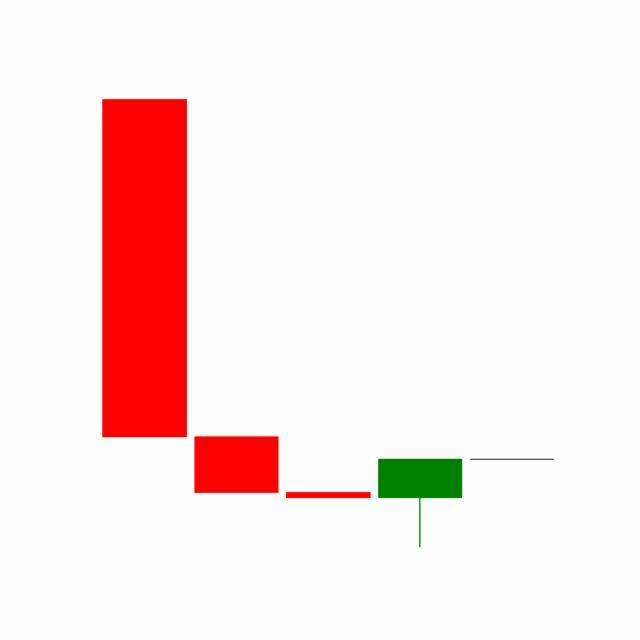Hanging Man: (374, 457, 468, 549)
